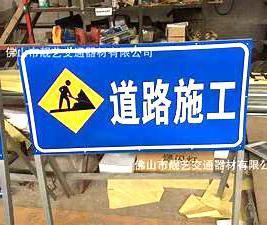sign: (18, 43, 248, 149)
